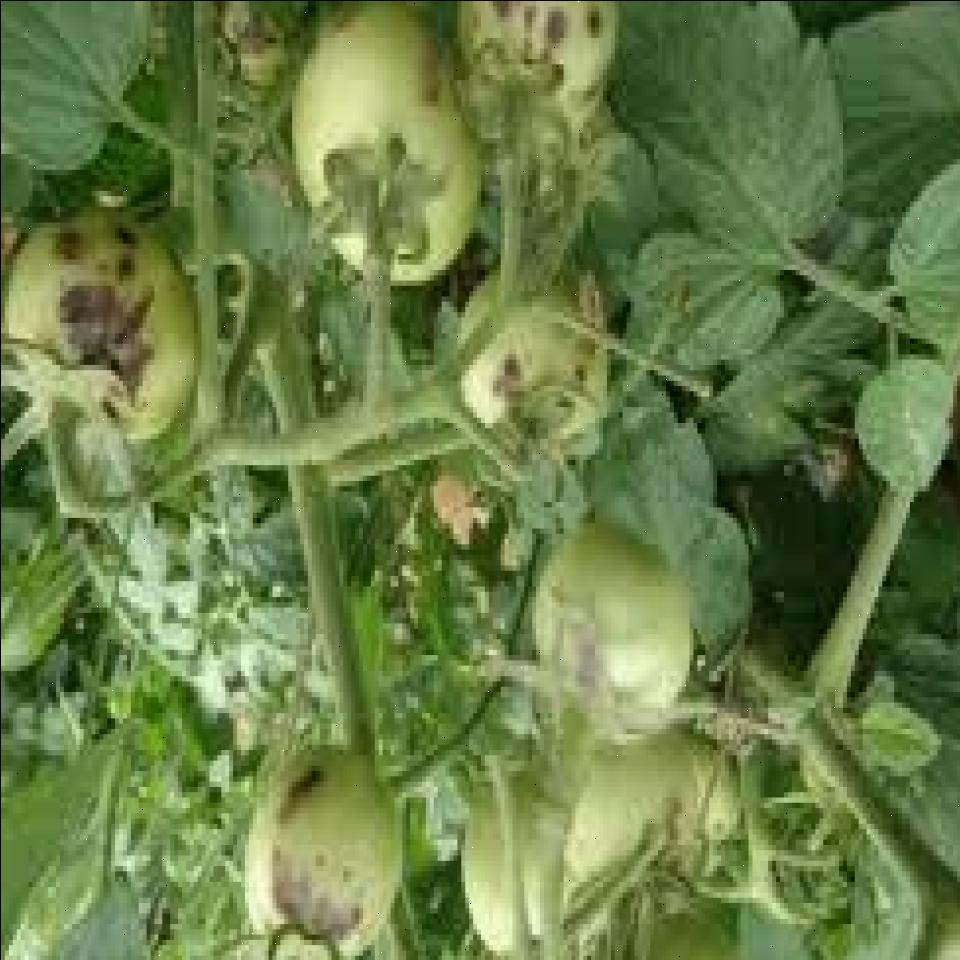Spotted wilt Virus: (291, 0, 476, 285), (8, 196, 202, 448), (536, 516, 694, 744), (243, 744, 401, 960), (456, 262, 612, 469), (452, 0, 614, 148)
